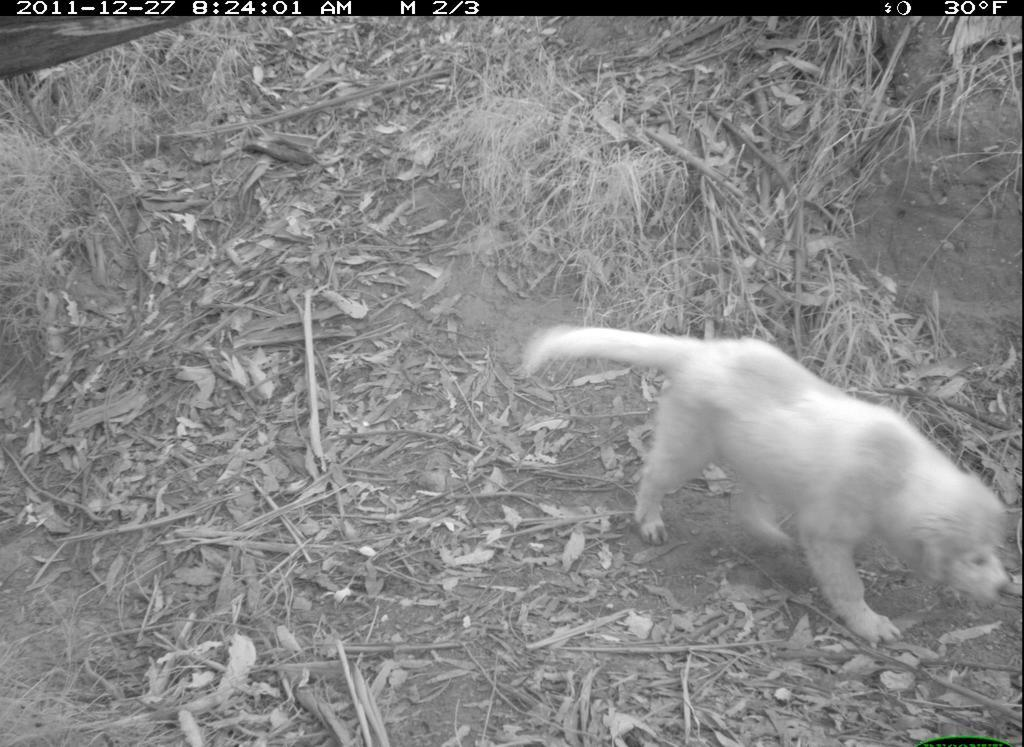dog: (511, 304, 1015, 658)
